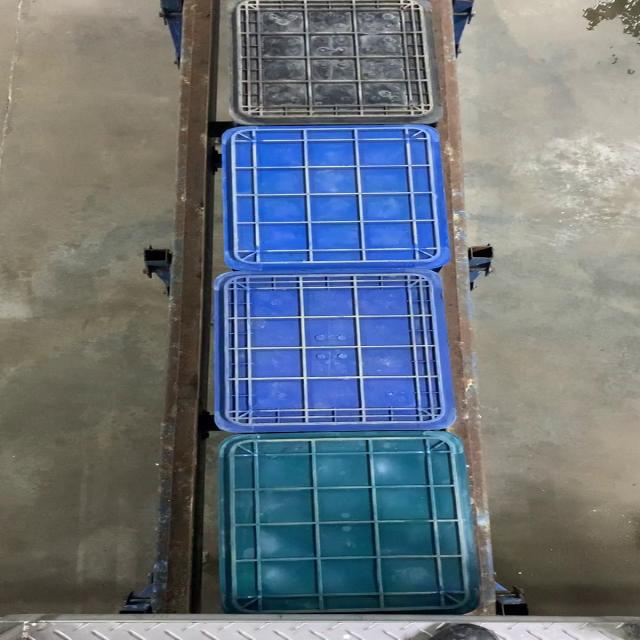Box: (207, 275, 453, 429), (223, 125, 455, 272), (226, 2, 434, 122)
